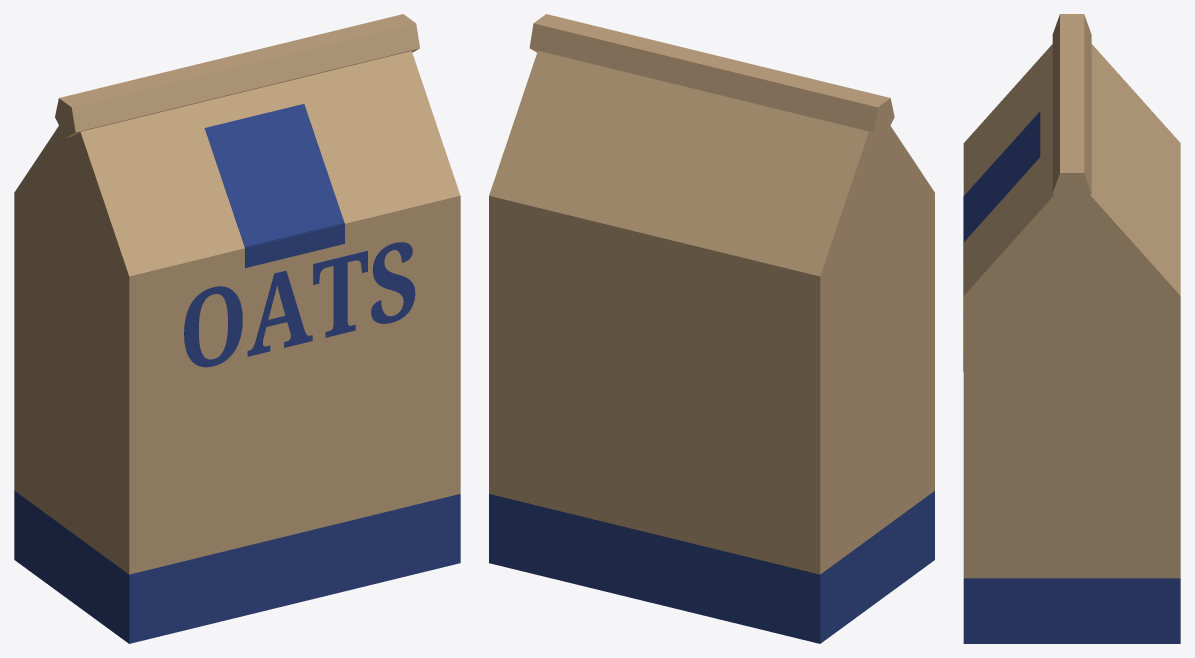
Rendered from performanceOats.glb.
3 renders of one model, left to right at view 1: azimuth 30°, elevation 25°; view 2: azimuth 150°, elevation 25°; view 3: azimuth 270°, elevation 25°, orthographic. The views are drawn at different scales.
Visible parts, largest first — view 1: Mesh_Mesh_head_geo001_lambert2SG001; view 2: Mesh_Mesh_head_geo001_lambert2SG001; view 3: Mesh_Mesh_head_geo001_lambert2SG001.
Boxes of the visible parts, bbox=[...] form: Mesh_Mesh_head_geo001_lambert2SG001: bbox=[14, 14, 460, 643]; Mesh_Mesh_head_geo001_lambert2SG001: bbox=[489, 14, 934, 643]; Mesh_Mesh_head_geo001_lambert2SG001: bbox=[963, 14, 1180, 643].
Bounding box in the file's own units: 44.27 × 61.51 × 25.6.
